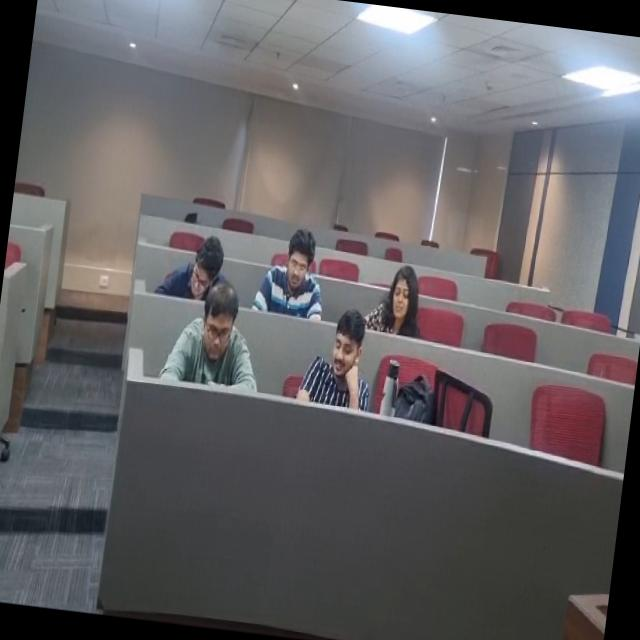non-cheating: (168, 270, 268, 398), (249, 210, 333, 327), (147, 213, 236, 309), (298, 302, 374, 414), (368, 260, 432, 334)
